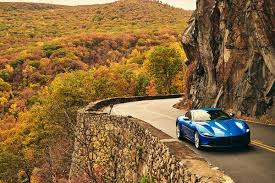car: (174, 107, 252, 154)
